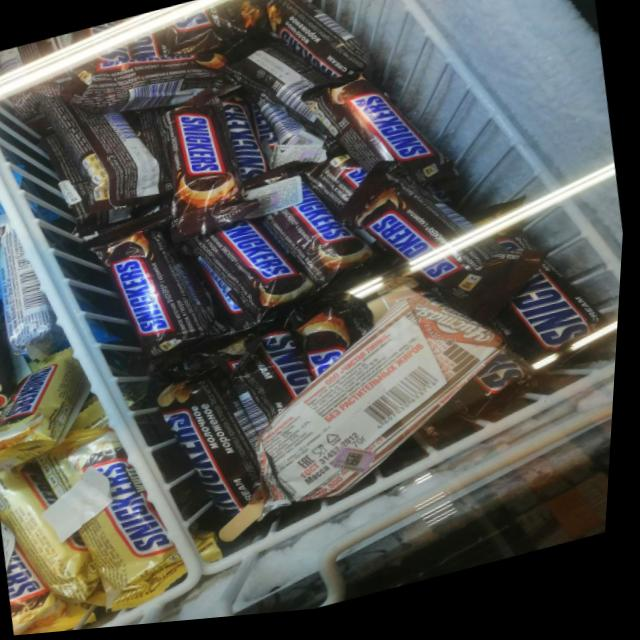datamatrix: (348, 455, 374, 479)
